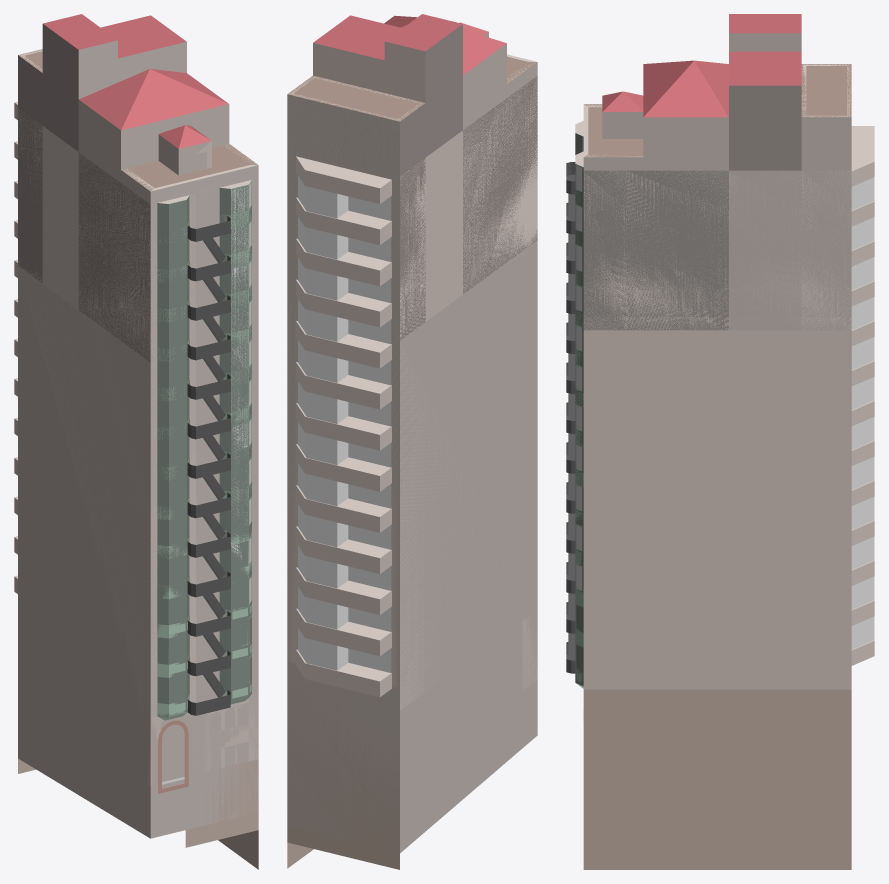
The model's file is tower_residential2.dae.
3 views of the same model, side by side, from view 1: azimuth 30°, elevation 25°; view 2: azimuth 150°, elevation 25°; view 3: azimuth 270°, elevation 25° (orthographic). The views are drawn at different scales.
Parts seen in each view (by area): view 1: tower_residential2_a250, tower_residential2_a500; view 2: tower_residential2_a250, tower_residential2_a500; view 3: tower_residential2_a500, tower_residential2_a250.
Boxes of the visible parts, box(x1,y1,x2,y2) form: tower_residential2_a250: box(18, 14, 258, 869); tower_residential2_a500: box(14, 49, 258, 869); tower_residential2_a250: box(287, 14, 537, 868); tower_residential2_a500: box(287, 54, 537, 869); tower_residential2_a500: box(566, 64, 874, 869); tower_residential2_a250: box(575, 14, 851, 869).
Bounding box in the file's own units: 8.6 × 20.98 × 60.31.
